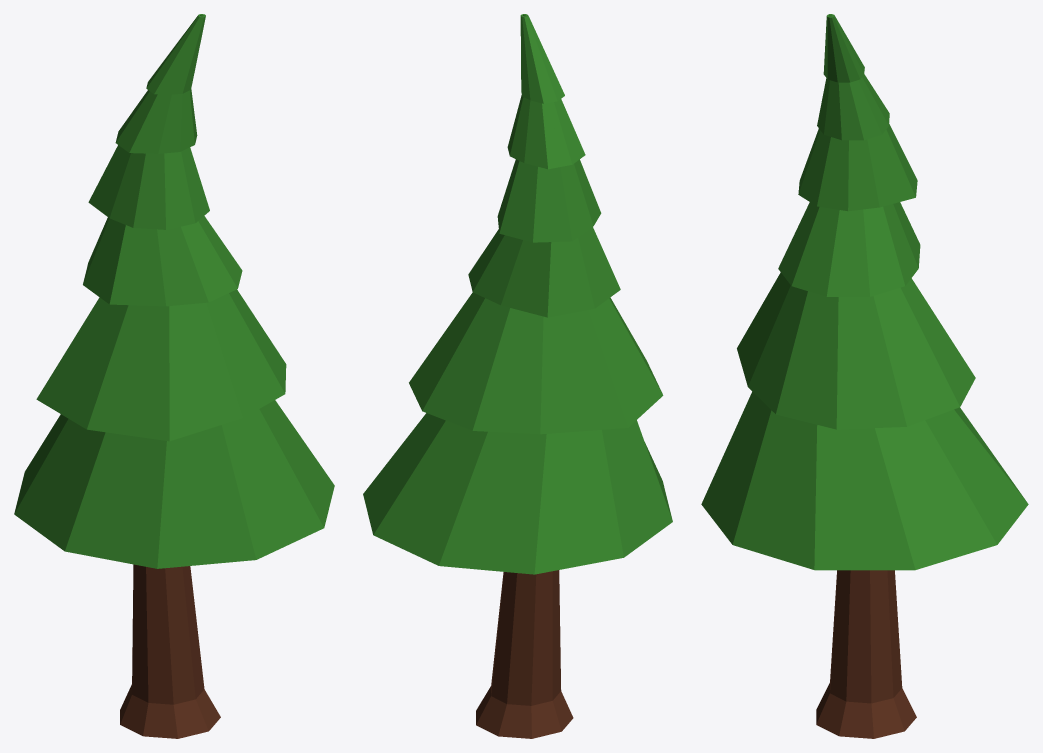
Rendered from Tree.fbx.
The picture shows the model from 3 angles, left to right: view 1: azimuth 30°, elevation 25°; view 2: azimuth 150°, elevation 25°; view 3: azimuth 270°, elevation 25°; orthographic projection. The views are drawn at different scales.
Visible parts, largest first — view 1: Cylinder.001, Cylinder; view 2: Cylinder.001, Cylinder; view 3: Cylinder.001, Cylinder.
Boxes of the visible parts, x1,y1,x2,y2 form: Cylinder.001: (14,14,334,568); Cylinder: (120,564,220,738); Cylinder.001: (363,14,672,574); Cylinder: (476,570,573,738); Cylinder.001: (701,14,1028,570); Cylinder: (816,570,916,738).
Bounding box in the file's own units: 716 × 1801 × 753.
